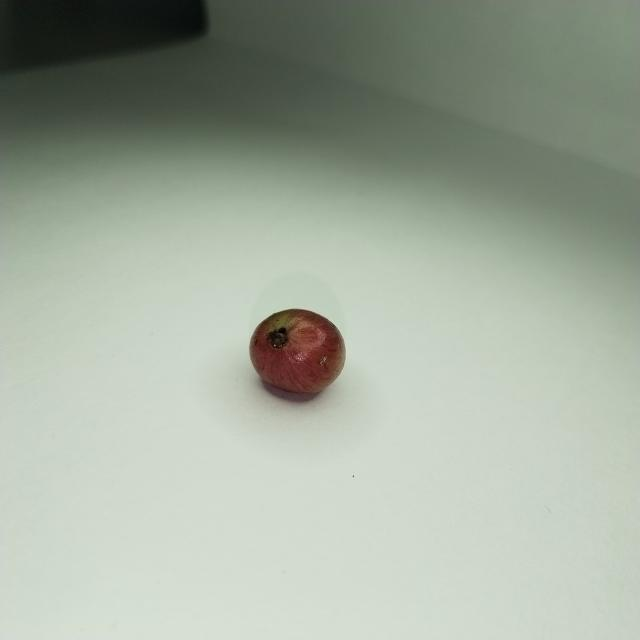Infectado: (249, 309, 344, 399)
